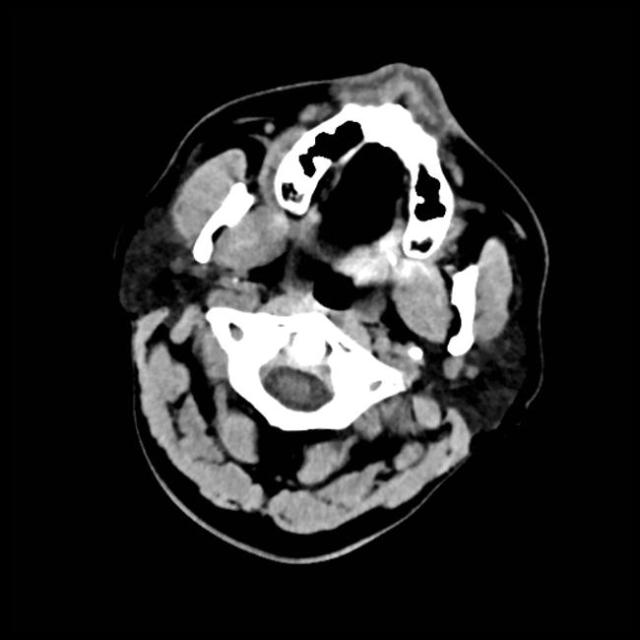lesion: (116, 63, 548, 551)
